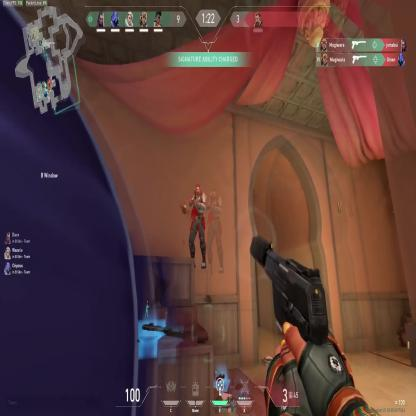enemy: (188, 184, 207, 270)
enemy_head: (195, 184, 201, 197)
